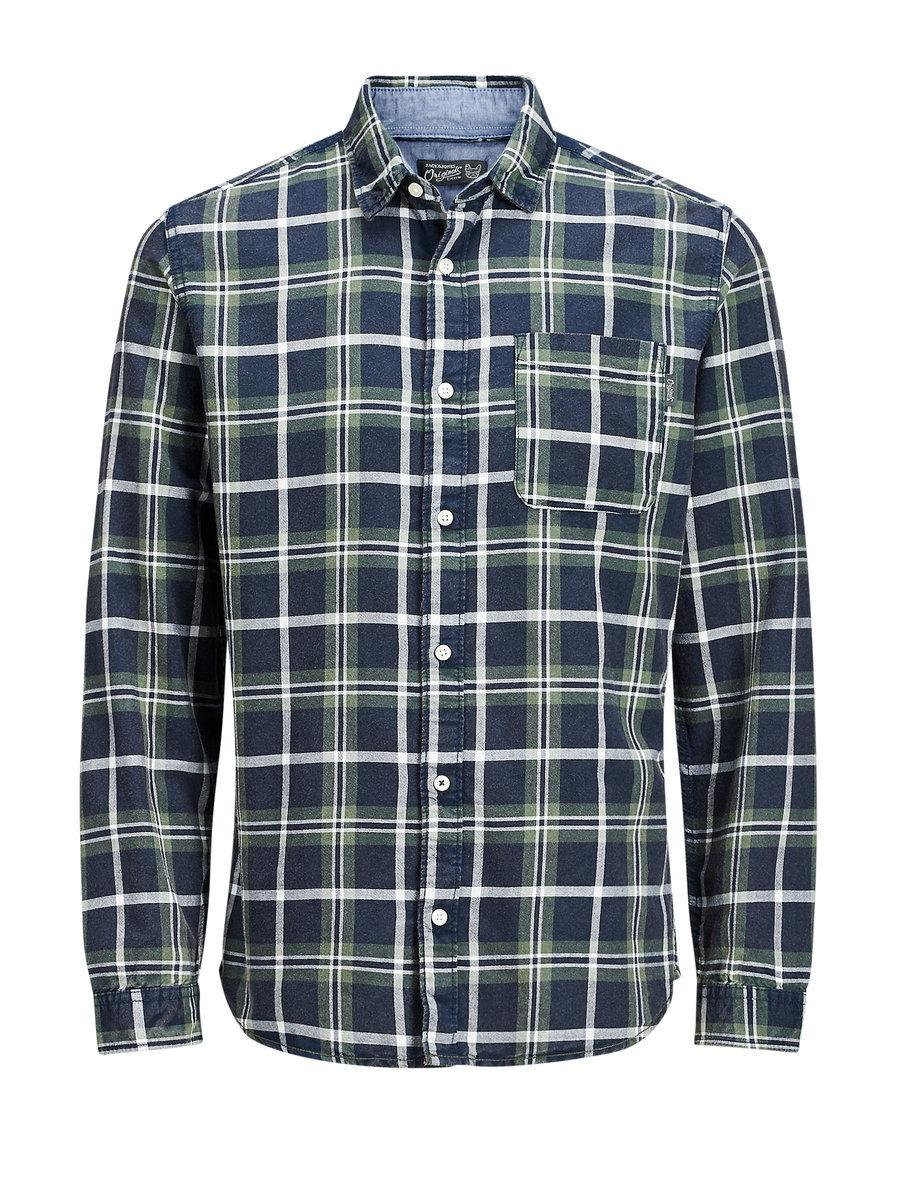teeshirt: (54, 67, 838, 1085)
